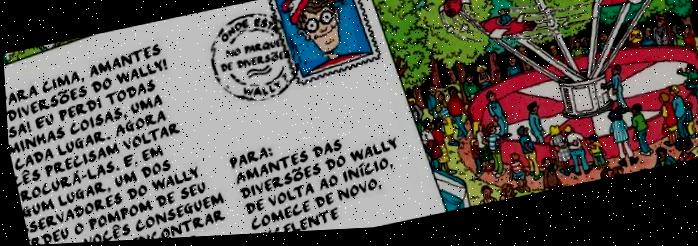waldo: (278, 0, 357, 67)
